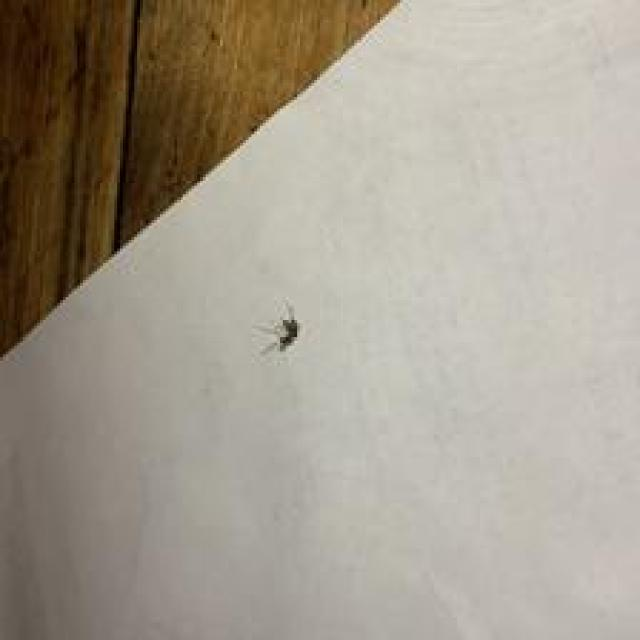Culex: (256, 301, 301, 356)
